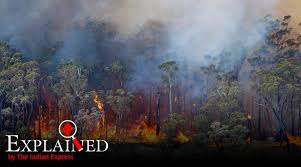fire: (92, 95, 112, 133), (32, 111, 52, 129)
smoke: (13, 4, 254, 62)
